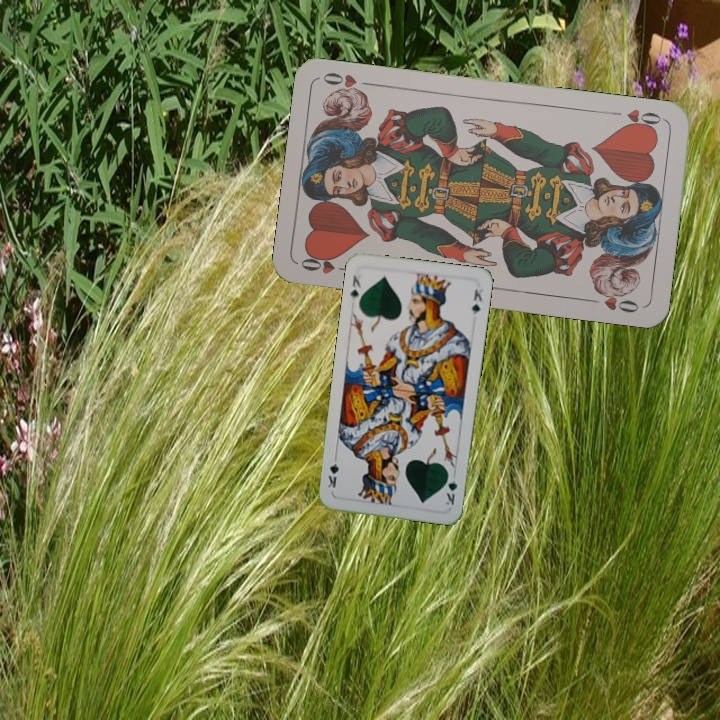GK: (442, 468, 460, 508), (346, 271, 364, 304)
HO: (607, 105, 666, 133), (296, 251, 355, 276)
